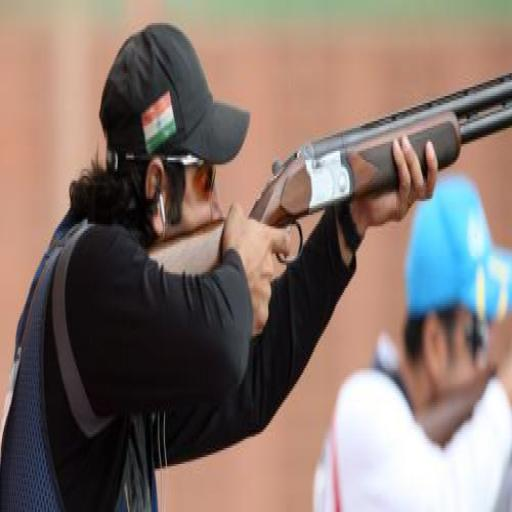shooting: (1, 18, 440, 510), (311, 169, 511, 510)
